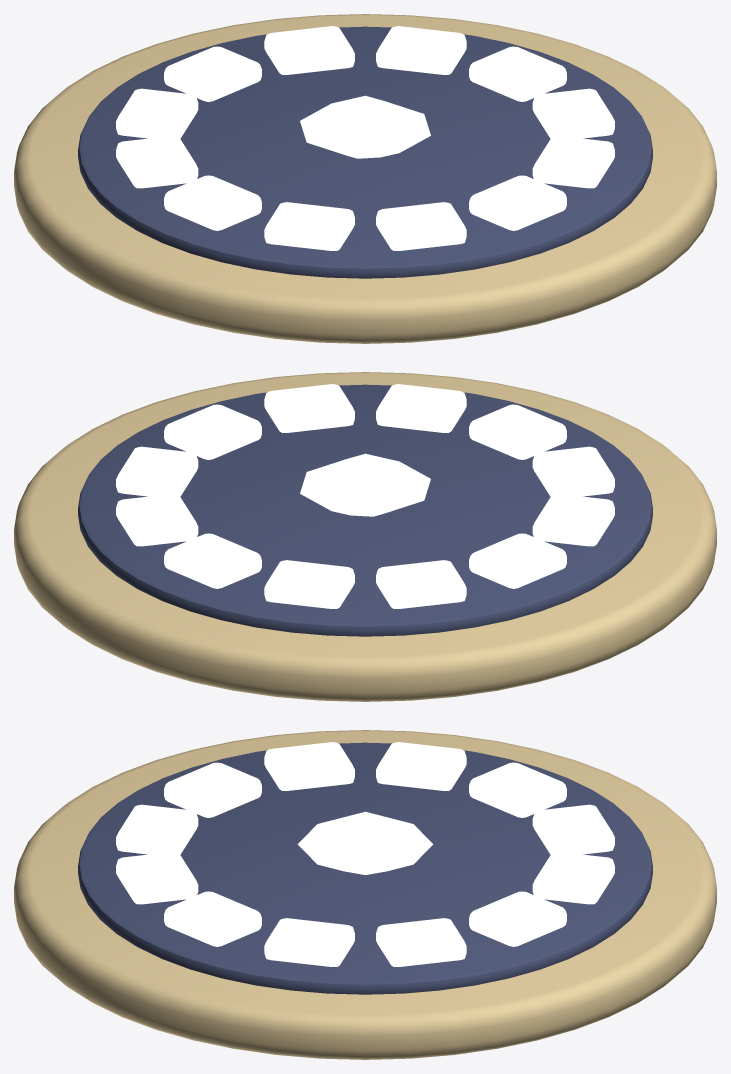
File: Lock.fbx
The picture shows the model from 3 angles, top to bottom: view 1: azimuth 30°, elevation 25°; view 2: azimuth 150°, elevation 25°; view 3: azimuth 270°, elevation 25°; orthographic projection.
Visible parts, largest first — view 1: Dial, Face, Gem, Seg05, Seg08, Seg02, Seg11, Seg00, Seg01, Seg06, Seg07, Seg04 (+3 smaller); view 2: Dial, Face, Gem, Seg00, Seg09, Seg03, Seg06, Seg04, Seg05, Seg10, Seg11, Seg01 (+3 smaller); view 3: Dial, Face, Gem, Seg01, Seg04, Seg07, Seg10, Seg08, Seg09, Seg02, Seg03, Seg00 (+3 smaller).
Boxes of the visible parts, left/top/right/bottom form: Dial: left=14, top=14, right=716, bottom=343; Face: left=78, top=26, right=652, bottom=278; Gem: left=300, top=95, right=430, bottom=158; Seg05: left=469, top=175, right=566, bottom=230; Seg08: left=164, top=175, right=261, bottom=230; Seg02: left=469, top=46, right=566, bottom=101; Seg11: left=164, top=46, right=261, bottom=101; Seg00: left=264, top=26, right=354, bottom=74; Seg01: left=376, top=26, right=466, bottom=74; Seg06: left=376, top=202, right=466, bottom=250; Seg07: left=264, top=202, right=354, bottom=250; Seg04: left=532, top=136, right=614, bottom=188; Dial: left=14, top=372, right=716, bottom=701; Face: left=78, top=384, right=652, bottom=636; Gem: left=300, top=453, right=430, bottom=516; Seg00: left=164, top=533, right=261, bottom=588; Seg09: left=469, top=533, right=566, bottom=588; Seg03: left=164, top=404, right=261, bottom=459; Seg06: left=469, top=404, right=566, bottom=459; Seg04: left=264, top=384, right=354, bottom=432; Seg05: left=376, top=384, right=466, bottom=432; Seg10: left=376, top=560, right=466, bottom=608; Seg11: left=264, top=560, right=354, bottom=608; Seg01: left=116, top=494, right=198, bottom=546; Dial: left=14, top=730, right=716, bottom=1059; Face: left=78, top=742, right=652, bottom=994; Gem: left=297, top=811, right=433, bottom=874; Seg01: left=469, top=891, right=566, bottom=946; Seg04: left=164, top=891, right=261, bottom=946; Seg07: left=164, top=762, right=261, bottom=817; Seg10: left=469, top=762, right=566, bottom=817; Seg08: left=264, top=742, right=354, bottom=790; Seg09: left=376, top=742, right=466, bottom=790; Seg02: left=376, top=918, right=466, bottom=966; Seg03: left=264, top=918, right=354, bottom=966; Seg00: left=532, top=852, right=614, bottom=904.
Size of the model in its own units: 0.88 by 0.145 by 0.88.
